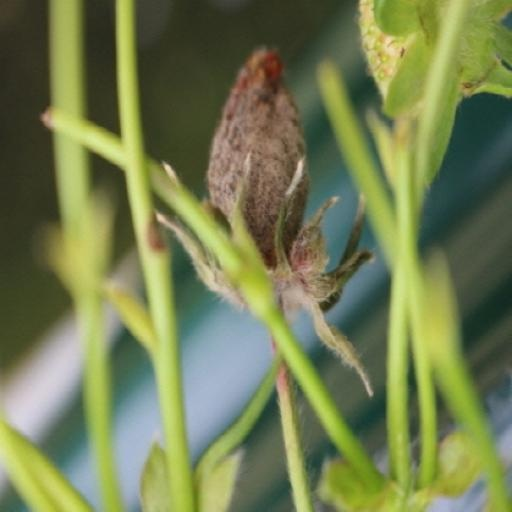Gray Mold: (136, 116, 358, 468)
